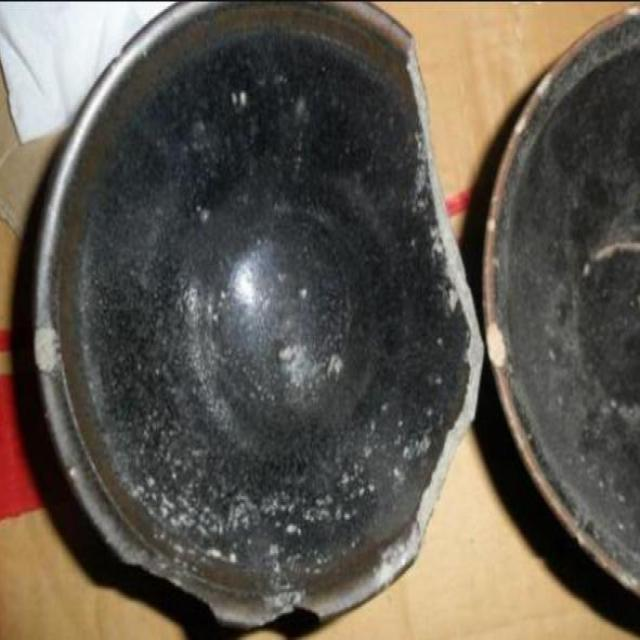-Other waste - ceramic-: (45, 0, 484, 631), (490, 11, 640, 619)
